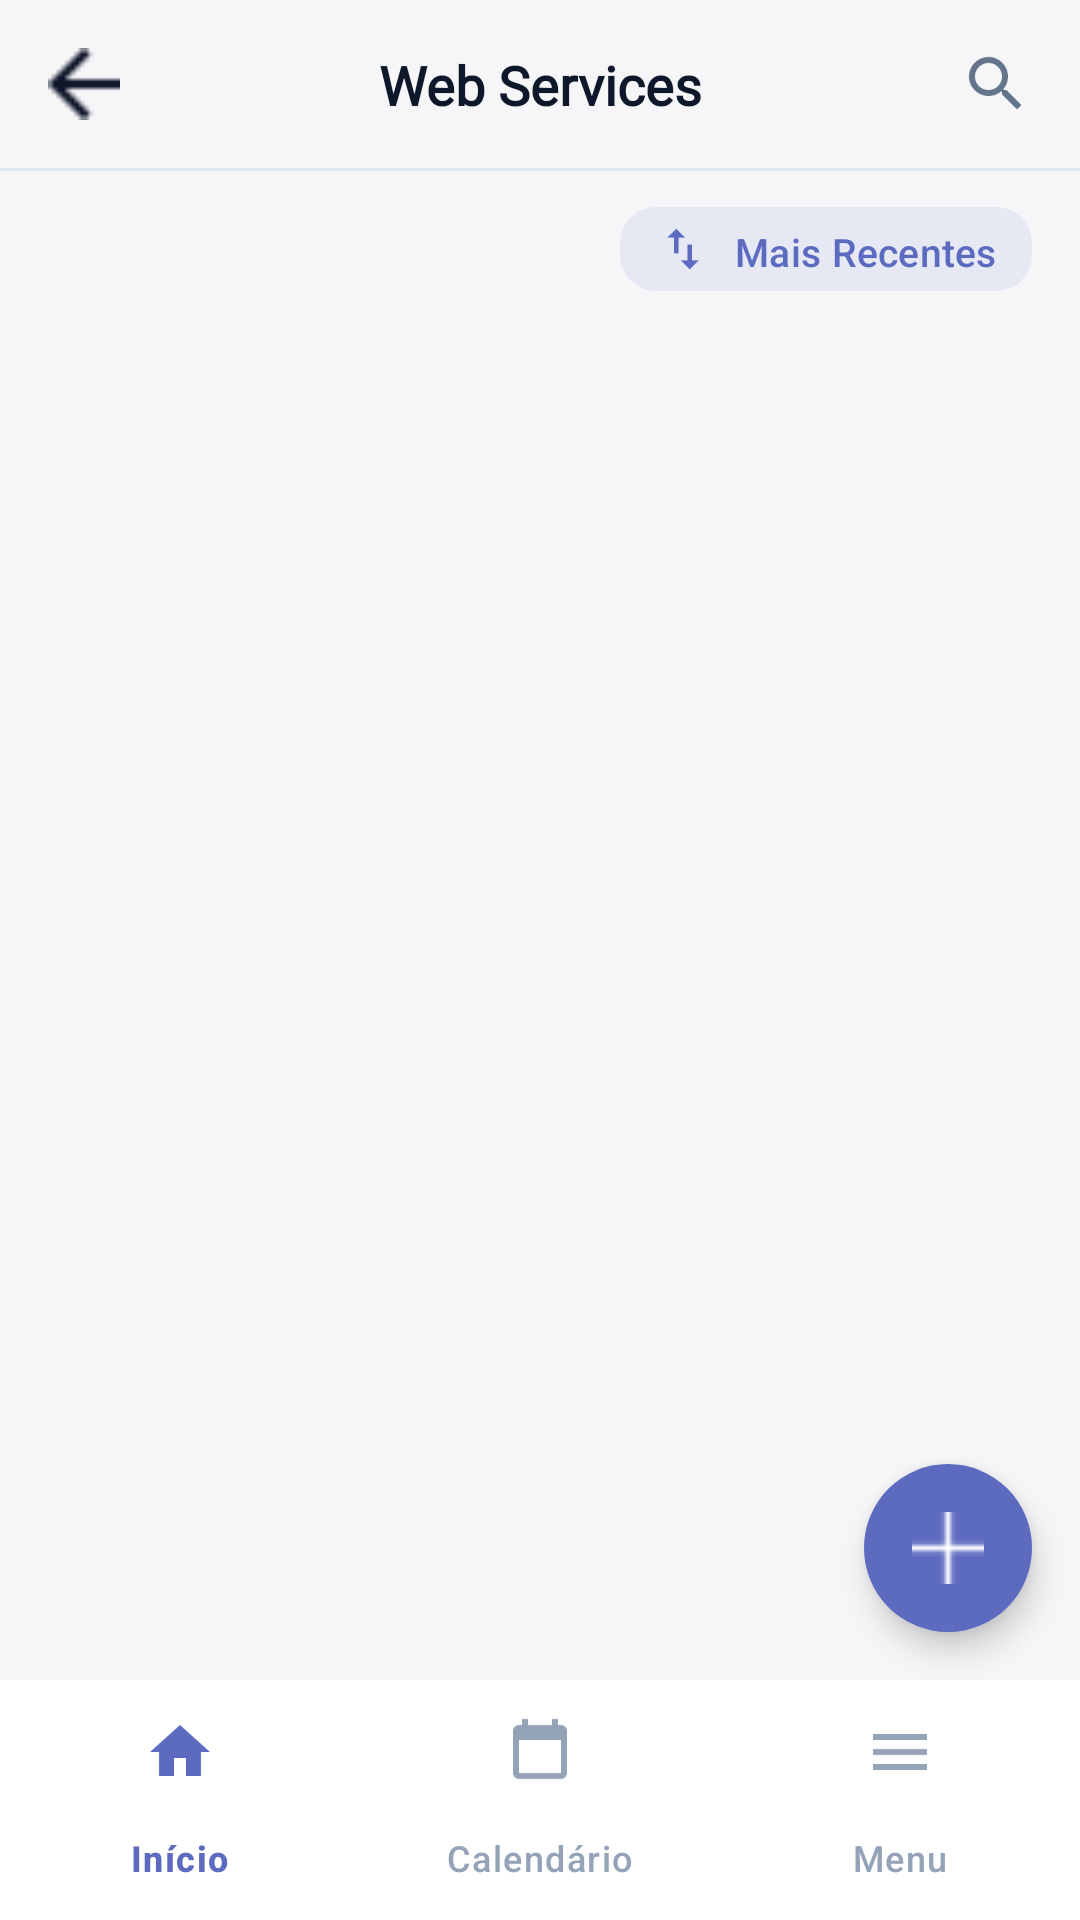

Locate icon controls on the screen. Image size 1080w x 1920h, boxes as (x1, y1, x2, y2).
add: (864, 1464, 1032, 1632)
Buscar anotação: (969, 57, 1021, 109)
Voltar: (48, 48, 120, 120)
